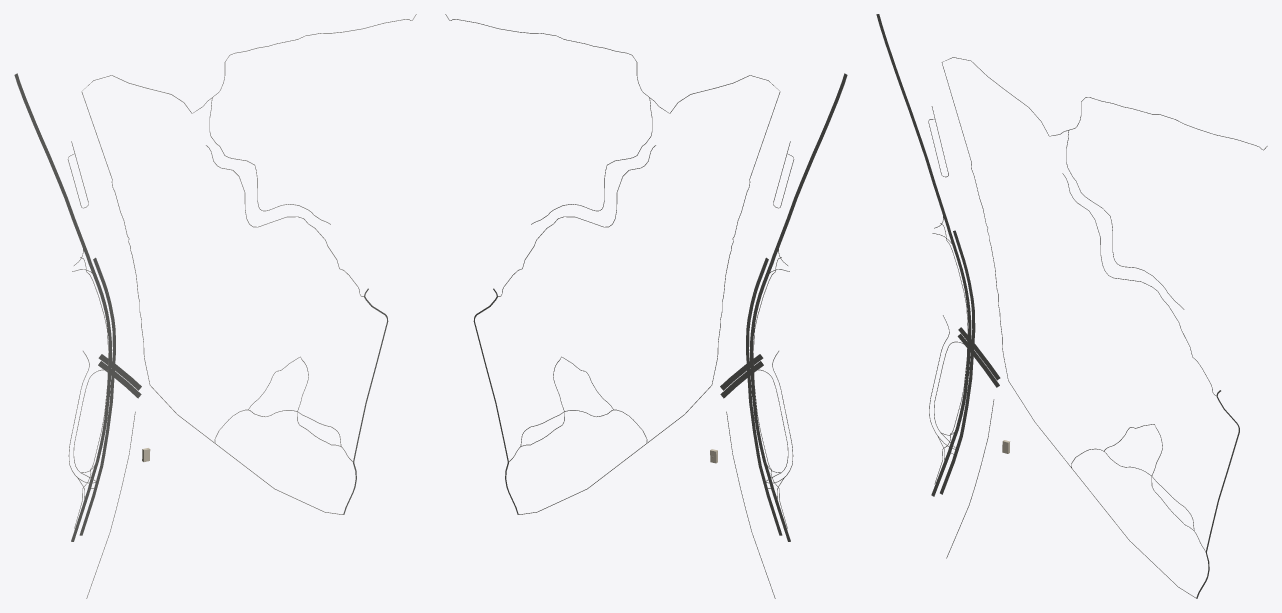
Rendered from historic-palestine-06_22_3478_3161.glb.
3 renders of one model, left to right at view 1: azimuth 30°, elevation 25°; view 2: azimuth 150°, elevation 25°; view 3: azimuth 330°, elevation 25°, orthographic. The views are drawn at different scales.
Visible parts, largest first — view 1: Road הדרום, Road, Road הדרום.001; view 2: Road הדרום, Road, Road הדרום.001; view 3: Road הדרום, Road, Road הדרום.001.
Part boxes in pixels (box(x1,y1,x2,y2)): Road הדרום: box(14, 73, 112, 541); Road: box(81, 14, 416, 360); Road הדרום.001: box(96, 292, 115, 482); Road הדרום: box(749, 73, 847, 541); Road: box(445, 14, 780, 360); Road הדרום.001: box(746, 292, 765, 482); Road הדרום: box(876, 14, 971, 496); Road: box(941, 57, 1267, 354); Road הדרום.001: box(955, 269, 975, 450).
Size of the model in its own units: 1000 by 1289 by 8.7.
